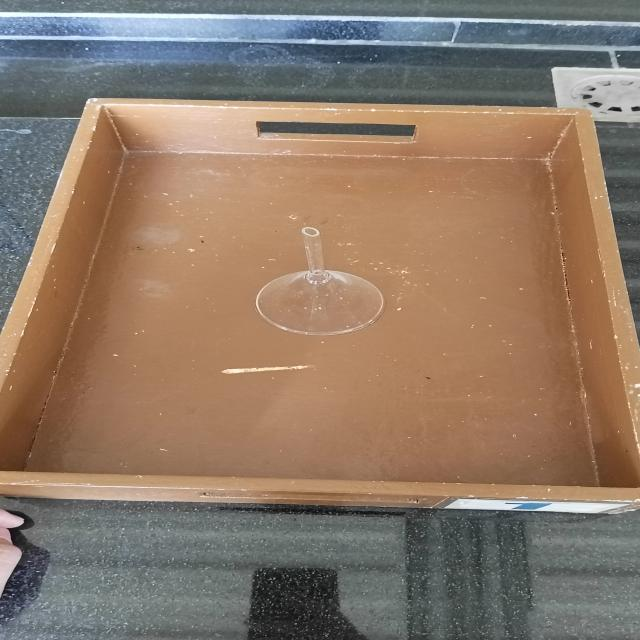funnel: (240, 225, 396, 336)
